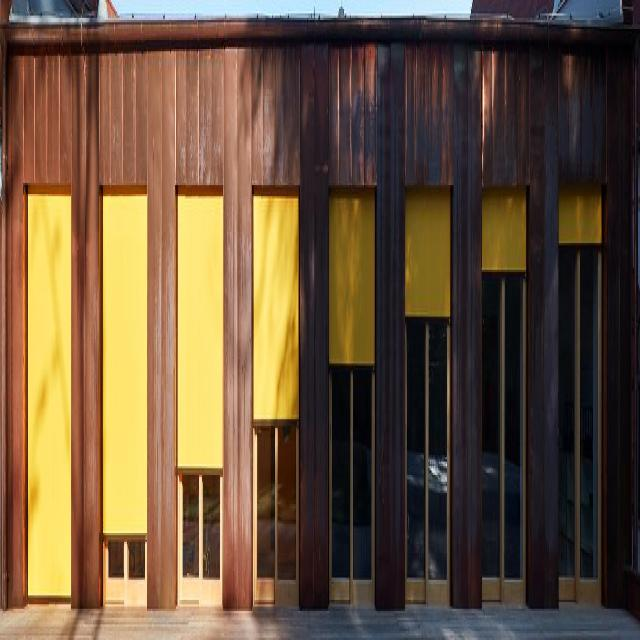door: (176, 184, 223, 618), (254, 181, 300, 593), (330, 178, 376, 590), (102, 192, 146, 610), (558, 180, 602, 589), (29, 204, 71, 626), (481, 199, 526, 588), (406, 197, 451, 584)
wall: (0, 18, 638, 612)
